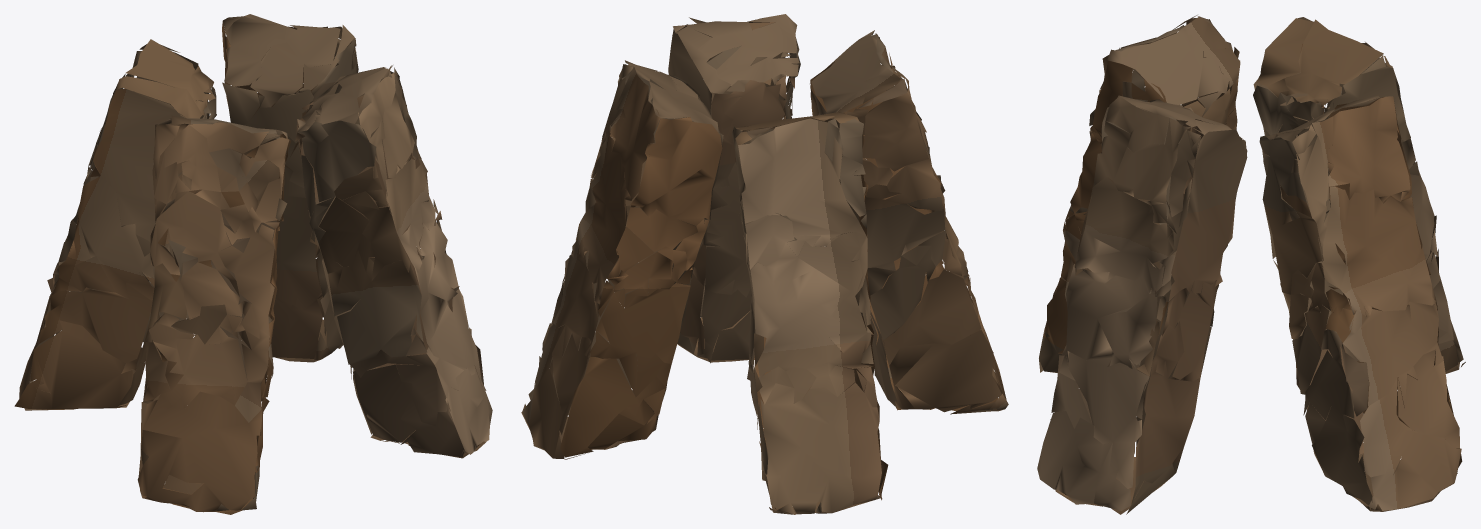
The model's file is art3.glb.
3 renders of one model, left to right at view 1: azimuth 30°, elevation 25°; view 2: azimuth 150°, elevation 25°; view 3: azimuth 270°, elevation 25°, orthographic. The views are drawn at different scales.
Parts seen in each view (by area): view 1: LO.001; view 2: LO.001; view 3: LO.001.
Boxes of the visible parts, <box> form: LO.001: <box>14,14,492,514</box>; LO.001: <box>521,14,1008,514</box>; LO.001: <box>1037,15,1465,514</box>.
Bounding box in the file's own units: 0.8452 × 0.786 × 0.8459.
Materials: 1 (1 with a texture image).
